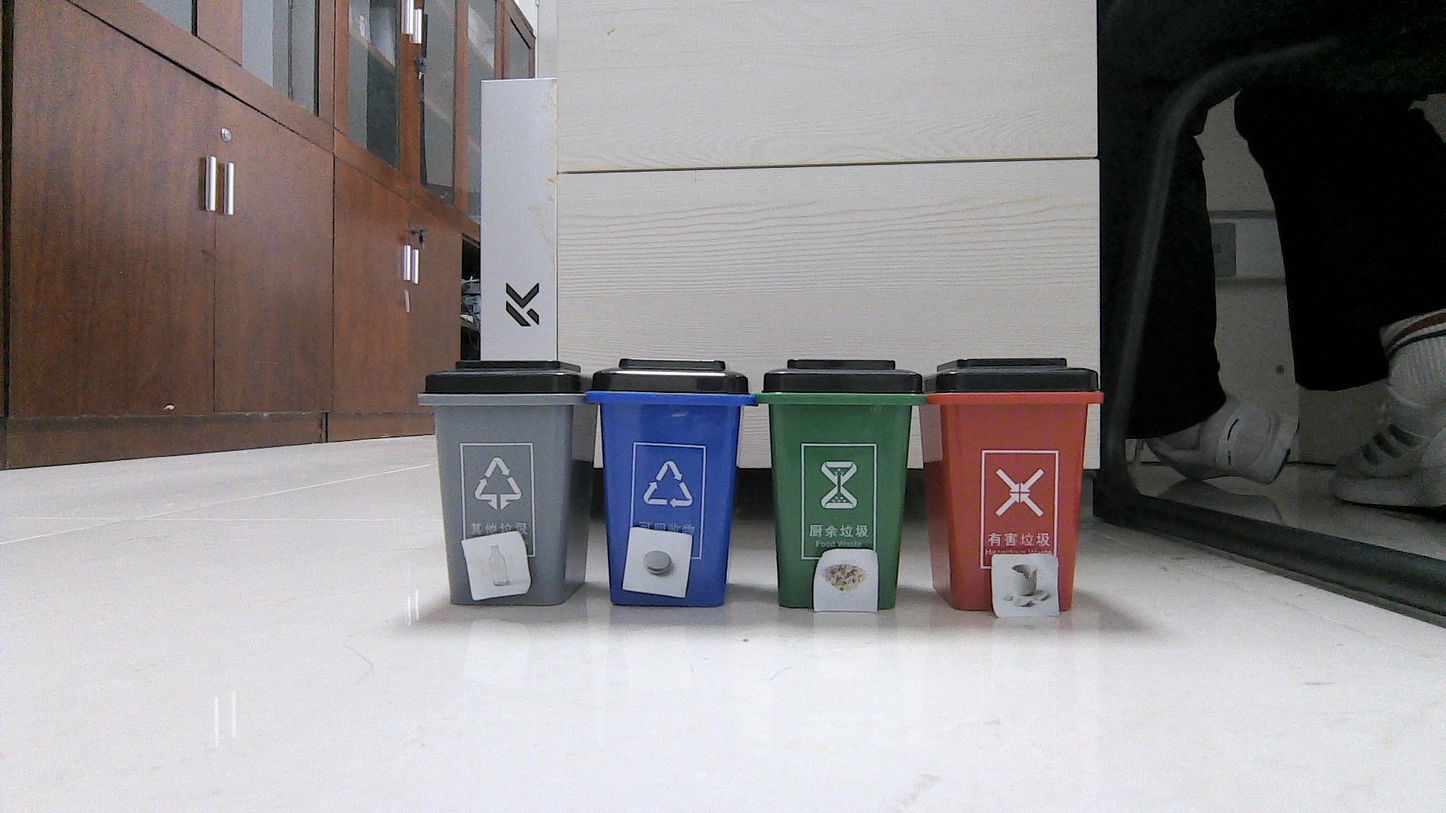food_trash: (819, 553, 874, 607)
hazardous_trash: (633, 532, 683, 590)
other_trash: (996, 555, 1055, 617)
recyclable_trash: (472, 537, 521, 593)
